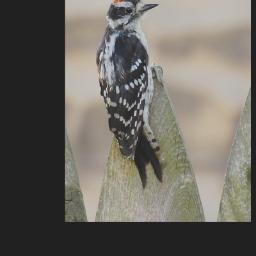Woodpecker: (93, 0, 163, 189)
